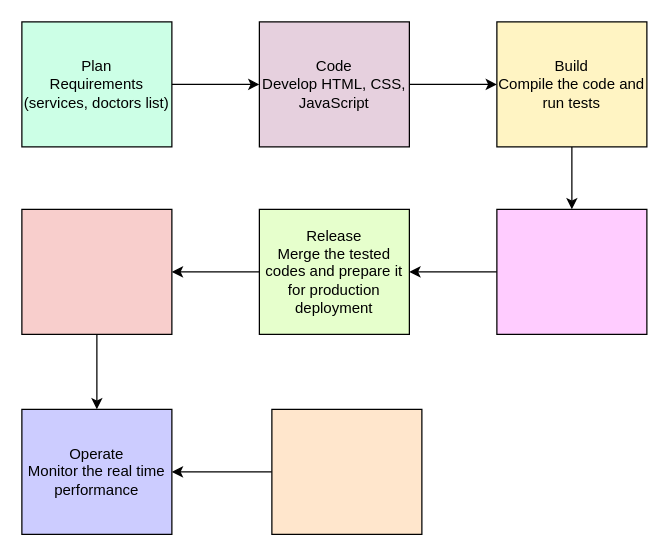
The diagram is 669 pixels wide and 556 high, and some of its shapes have lost their labels. Each missing label, with the centre of its shape:
"Deploy Push the product to live server" goes at point (96, 271).
"Monitor Collect user feedback Feed improvements back to Plan stage" goes at point (346, 471).
"Test Automated UI tests(form submissions)" goes at point (571, 271).
